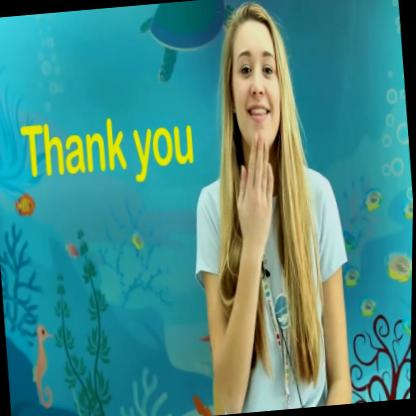ThankYou: (177, 0, 317, 411)
